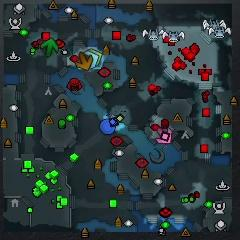p1: (100, 118, 116, 134)
x1: (157, 128, 172, 143)
x2: (89, 48, 103, 65)
x3: (84, 50, 98, 68)
x4: (41, 38, 58, 56)
x5: (76, 52, 92, 70)
